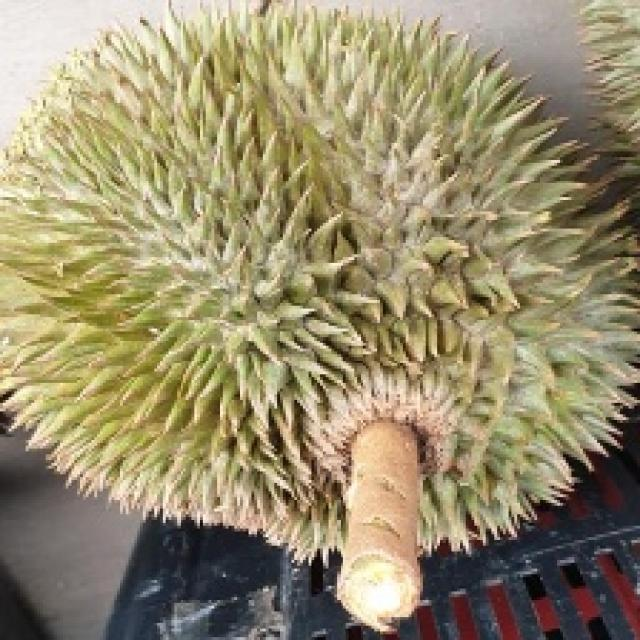d101: (22, 36, 612, 548)
